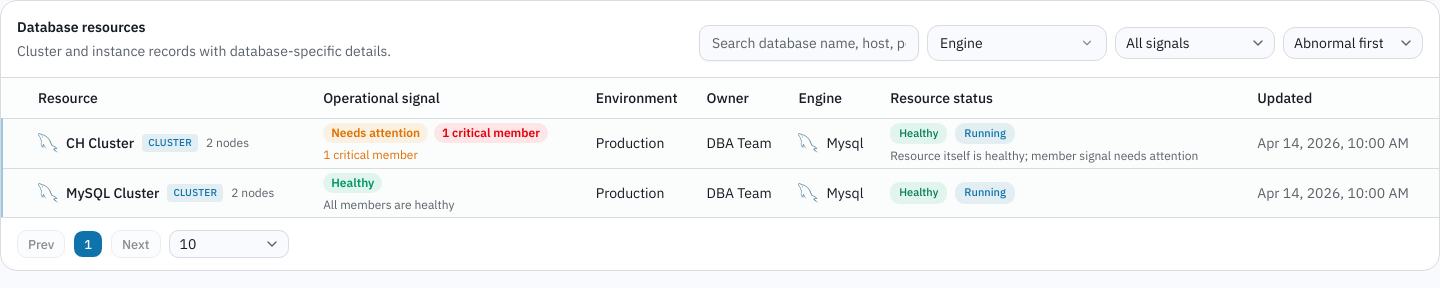
Scenario: DatabaseTable › shows signal counts in filter dropdown options
Click the dropdown named "Operational signal". click: (1195, 43)
box: [1115,27,1275,59]
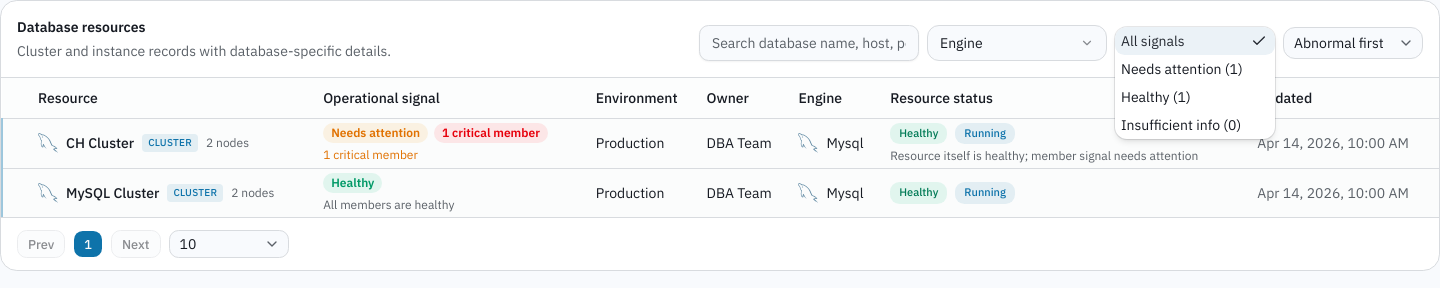
Now the text "Needs attention (1)" is shown, box [1121,59,1243,79]
Now the text "Healthy (1)" is shown, box [1121,88,1191,106]
